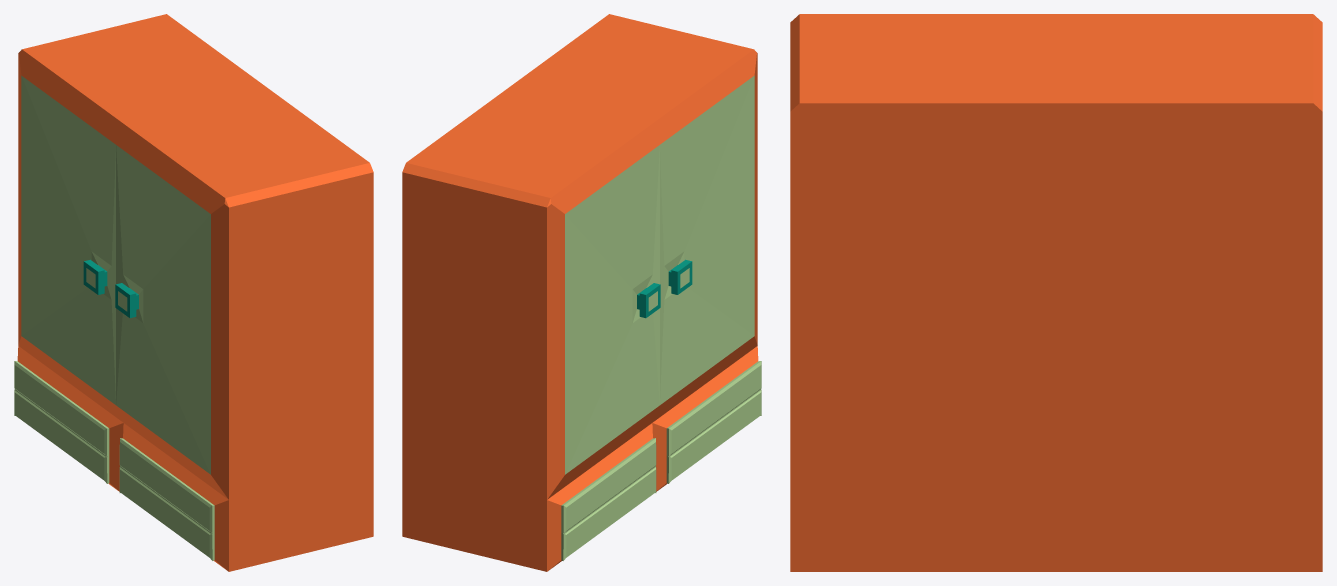
The model's file is Armario Pintado.FBX.
The picture shows the model from 3 angles, left to right: view 1: azimuth 30°, elevation 25°; view 2: azimuth 150°, elevation 25°; view 3: azimuth 270°, elevation 25°; orthographic projection. The views are drawn at different scales.
Parts seen in each view (by area): view 1: Box001; view 2: Box001; view 3: Box001.
Boxes of the visible parts, left/top/right/bottom form: Box001: left=14, top=14, right=373, bottom=571; Box001: left=402, top=14, right=761, bottom=571; Box001: left=790, top=14, right=1322, bottom=571.
Size of the model in its own units: 94.08 by 207 by 213.
